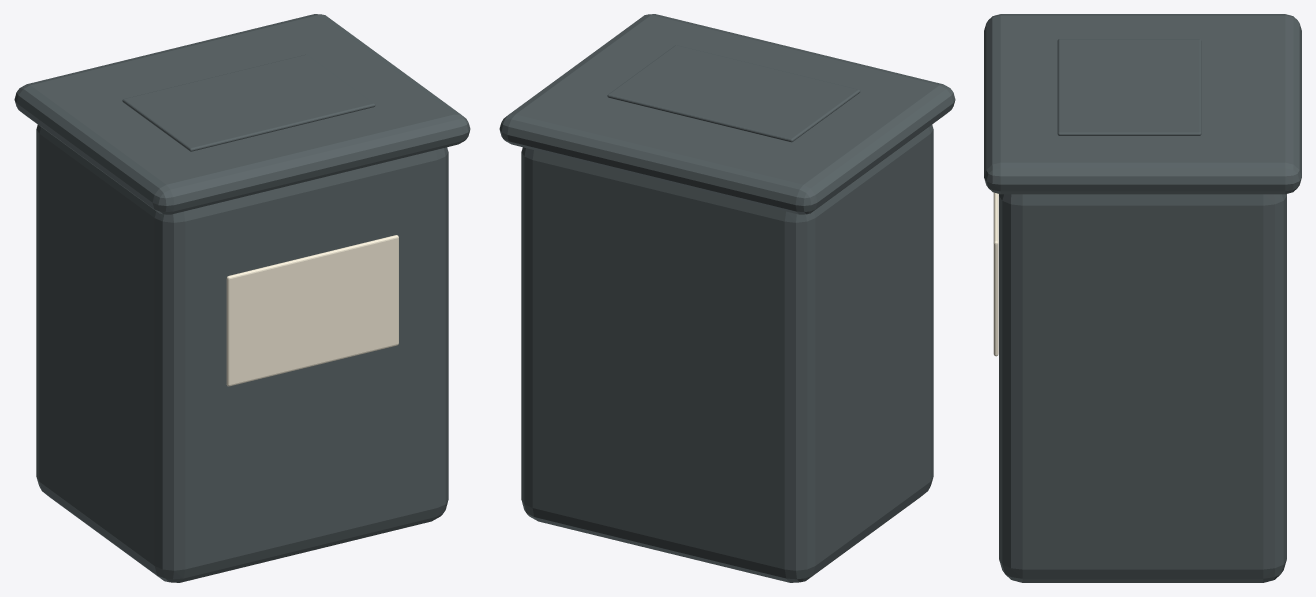
Rendered from CP08-remaining.glb.
3 renders of one model, left to right at view 1: azimuth 30°, elevation 25°; view 2: azimuth 150°, elevation 25°; view 3: azimuth 270°, elevation 25°, orthographic. The views are drawn at different scales.
Parts seen in each view (by area): view 1: CP08-remaining; view 2: CP08-remaining; view 3: CP08-remaining.
Boxes of the visible parts, x1=… form: CP08-remaining: x1=14, y1=14, x2=470, y2=582; CP08-remaining: x1=499, y1=14, x2=955, y2=582; CP08-remaining: x1=984, y1=14, x2=1301, y2=582.
Size of the model in its own units: 1.14 by 1.42 by 0.95.
